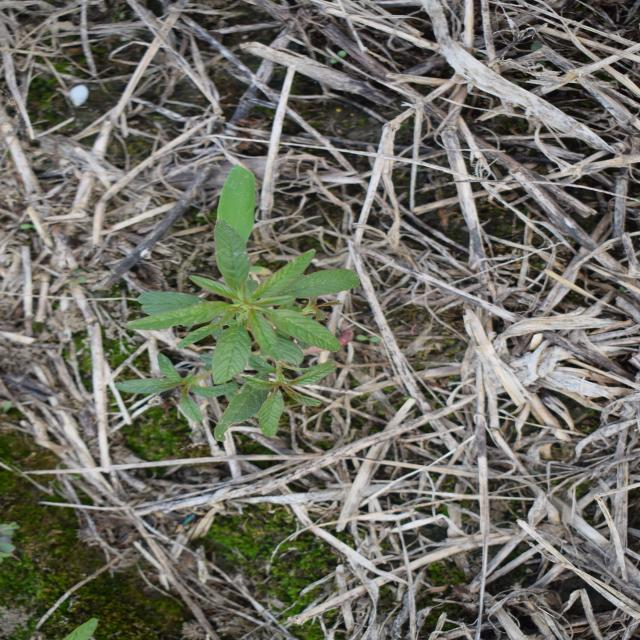Waterhemp: (110, 218, 367, 446)
